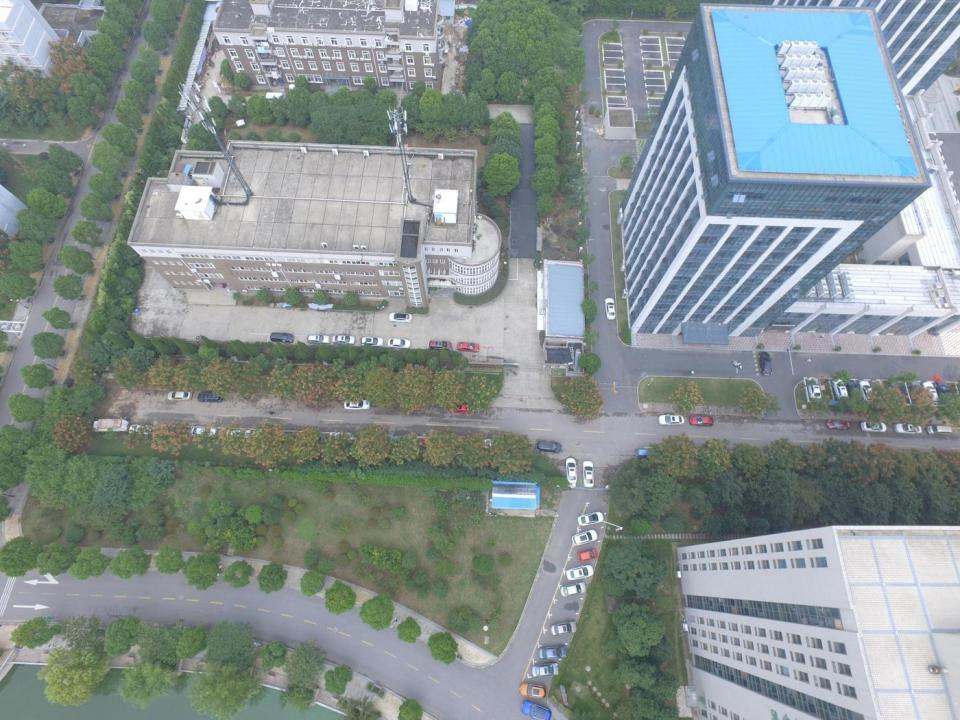car: (520, 700, 552, 720), (518, 682, 548, 698), (530, 662, 560, 678), (934, 380, 954, 404), (538, 645, 569, 660), (549, 620, 578, 636), (565, 564, 594, 580), (571, 529, 598, 546), (908, 380, 927, 404), (922, 381, 940, 404), (805, 376, 822, 400), (577, 511, 604, 526), (831, 378, 849, 400), (560, 582, 588, 596), (565, 458, 577, 490), (846, 379, 862, 403), (582, 459, 595, 488), (857, 380, 874, 402), (892, 423, 922, 435), (658, 413, 685, 426), (758, 351, 772, 376), (689, 414, 715, 427), (300, 431, 326, 444), (860, 421, 886, 433), (344, 398, 370, 410), (328, 432, 354, 444), (388, 311, 413, 323), (577, 548, 598, 562), (306, 334, 330, 346), (197, 391, 223, 402), (191, 426, 217, 437), (826, 419, 852, 430), (448, 403, 474, 414), (604, 298, 616, 320), (270, 332, 294, 343), (332, 334, 356, 345), (428, 340, 452, 351), (390, 434, 414, 445), (226, 428, 252, 438), (361, 336, 384, 347), (167, 390, 192, 400), (457, 342, 479, 353), (128, 424, 152, 434), (388, 338, 412, 348), (422, 437, 445, 447), (634, 448, 654, 458), (484, 439, 506, 448)
truck: (93, 418, 130, 432)
van: (536, 440, 562, 453), (926, 425, 952, 435), (265, 92, 285, 103)
